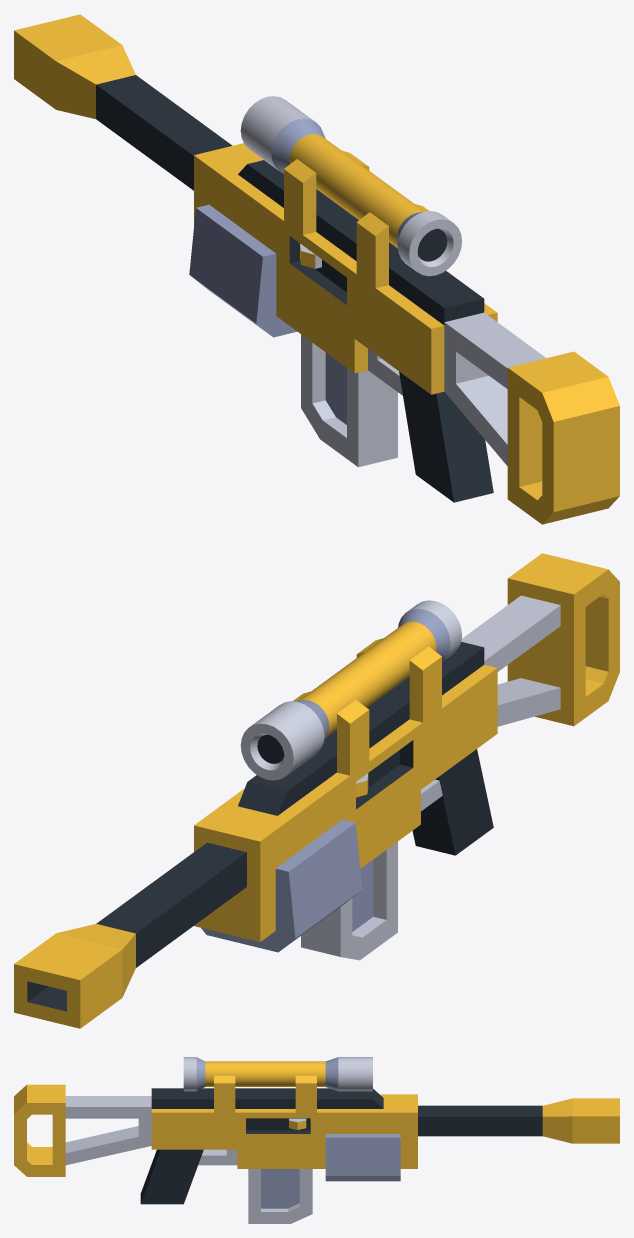
File: blasterE.obj
3 views of the same model, one above another, from view 1: azimuth 30°, elevation 25°; view 2: azimuth 150°, elevation 25°; view 3: azimuth 270°, elevation 25° (orthographic). The views are drawn at different scales.
Parts seen in each view (by area): view 1: blasterE; view 2: blasterE; view 3: blasterE.
Part boxes in pixels (<box>): blasterE: <box>14,14,619,524</box>; blasterE: <box>14,553,619,1028</box>; blasterE: <box>14,1057,619,1223</box>.
Bounding box in the file's own units: 0.16 × 0.41 × 1.41.
